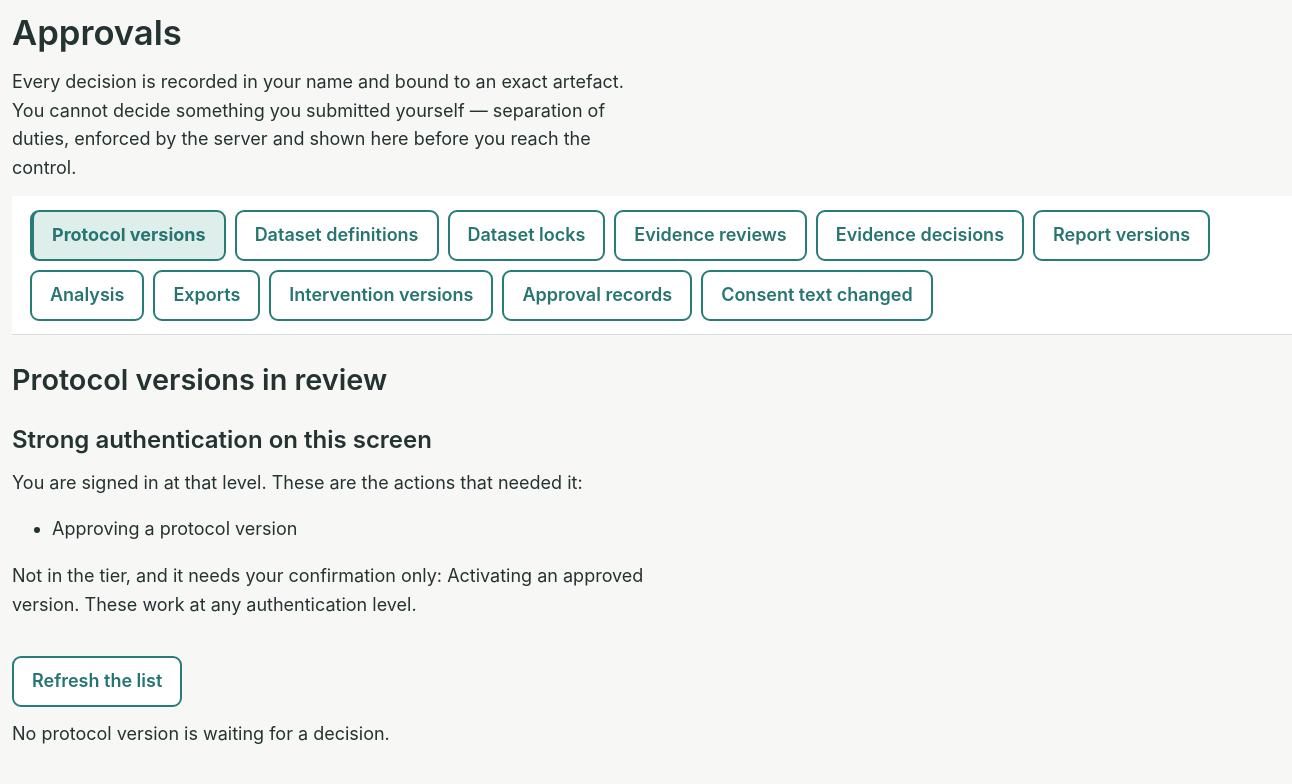
it: approving a dataset definition › your own definition is refused before the button, not after
Click the button "Dataset definitions" at (337, 235), box [235,210,438,261]
(page scrolled)
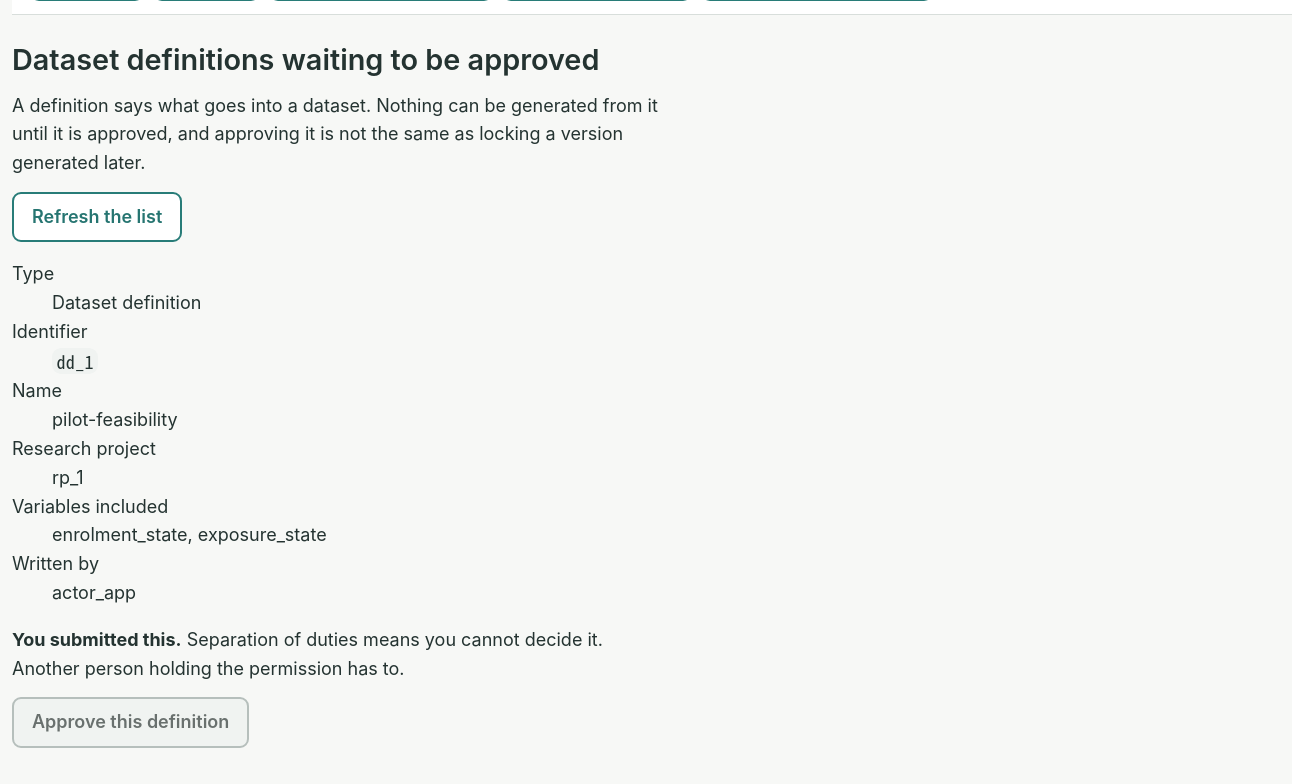
Expected: the button "Approve this definition" is disabled, [12,697,249,748]
